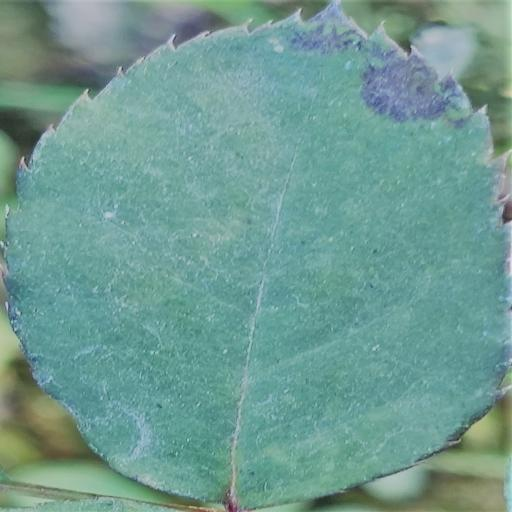black_spot: (3, 0, 511, 512)
